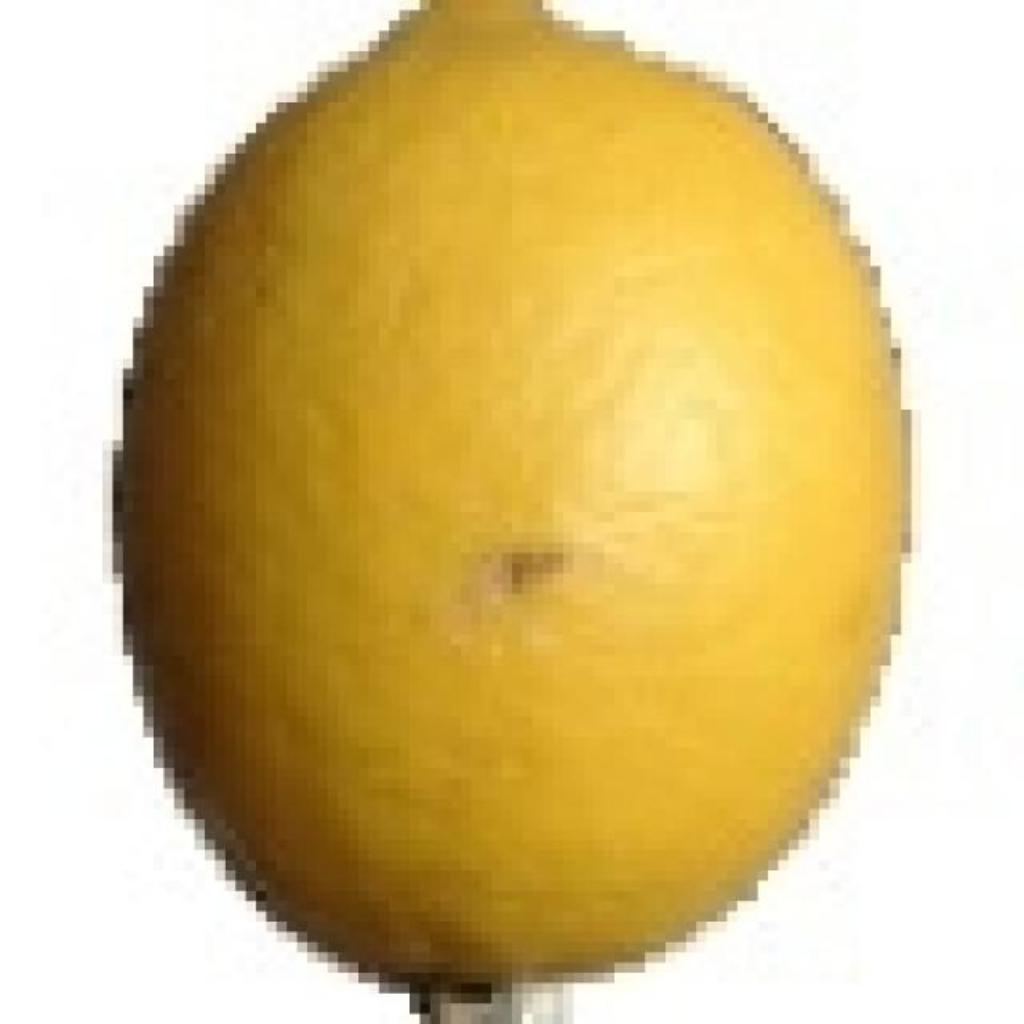lemon: (124, 0, 902, 1005)
